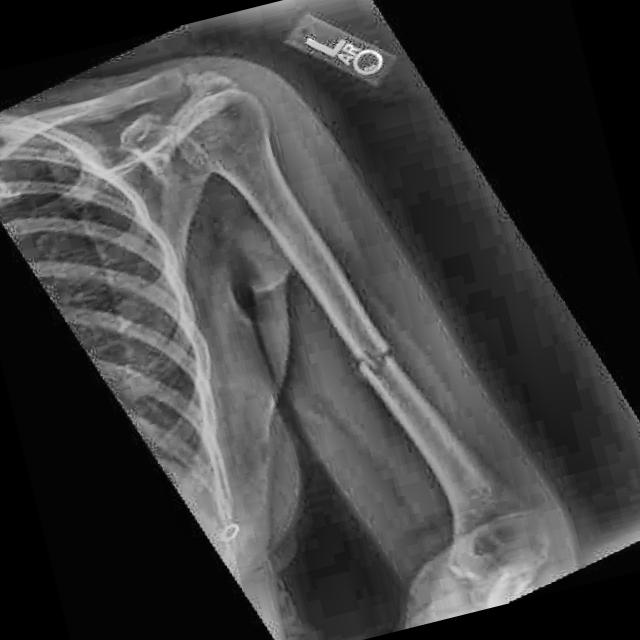humerus: (312, 302, 454, 445)
